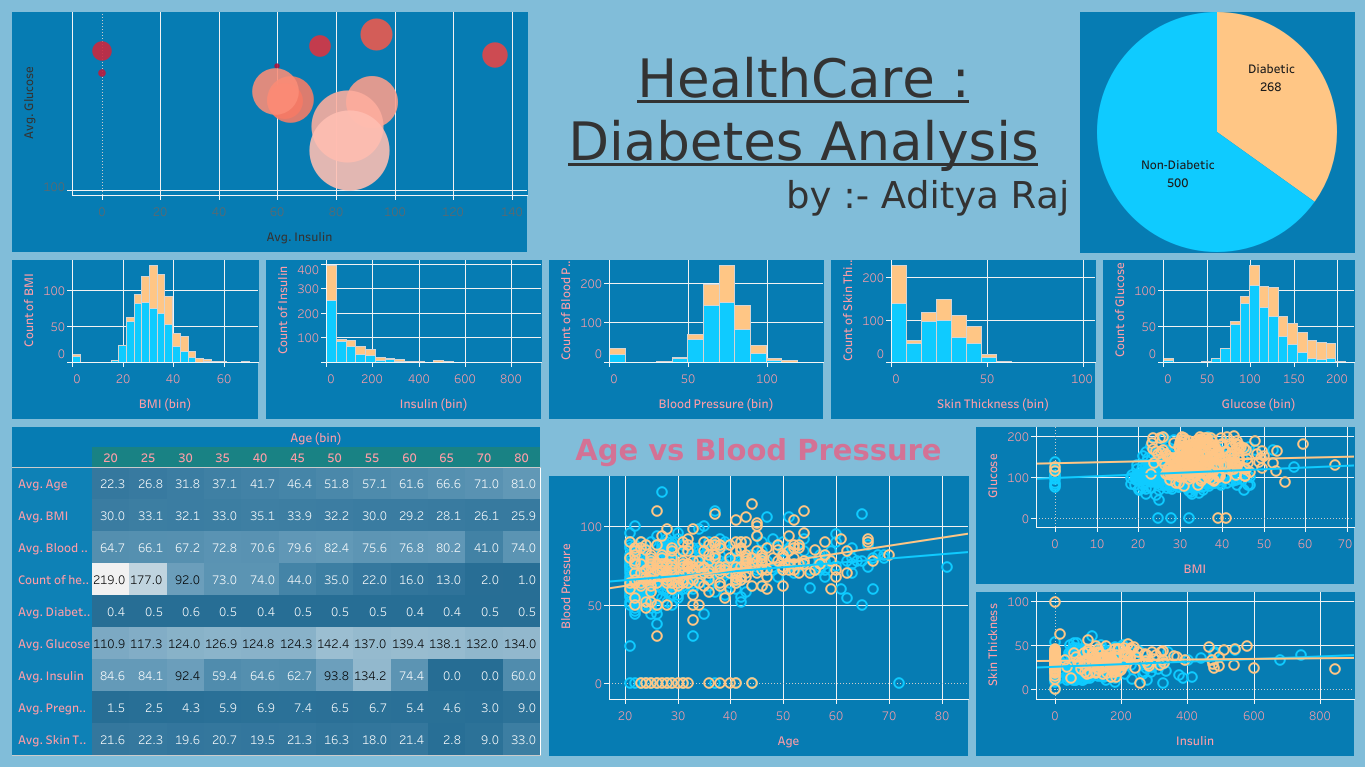

Layout of this report page (visuals, bound fields, positions):
{"tool":"tableau","page":{"name":"Dashboard","canvas":[1366,768],"ordinal":0},"visuals":[{"type":"worksheet","title":"Age Bins","mark":"Circle","rows":["Glucose"],"cols":["Insulin"],"box":[8,8,523.5,248]},{"type":"text","box":[531.5,8,544.5,248]},{"type":"worksheet","title":"Pie Outcome Percent","mark":"Pie","box":[1076,8,282,248]},{"type":"worksheet","title":"Hist BMI","mark":"Automatic","rows":["BMI"],"cols":["BMI (bin)"],"box":[8,256,254,167]},{"type":"worksheet","title":"Hist Insulin","mark":"Automatic","rows":["Insulin"],"cols":["Insulin (bin)"],"box":[262,256,283,167]},{"type":"worksheet","title":"Hist Blood Pressure","mark":"Automatic","rows":["BloodPressure"],"cols":["Blood Pressure (bin)"],"box":[545,256,282,167]},{"type":"worksheet","title":"Hist Skin Thickness","mark":"Automatic","rows":["SkinThickness"],"cols":["Skin Thickness (bin)"],"box":[827,256,272,167]},{"type":"worksheet","title":"Hist Glucose","mark":"Automatic","rows":["Glucose"],"cols":["Glucose (bin)"],"box":[1099,256,259,167]},{"type":"worksheet","title":"Heatmap","mark":"Square","cols":["Age (bin)"],"box":[8,423,537,337]},{"type":"worksheet","title":"Age vs Blood Pressure","mark":"Shape","rows":["BloodPressure"],"cols":["Age"],"box":[545,423,427,337]},{"type":"worksheet","title":"Bmi vs Glucose","mark":"Shape","rows":["Glucose"],"cols":["BMI"],"box":[972,423,386,165]},{"type":"worksheet","title":"Insulin Vs Skin Thickness","mark":"Shape","rows":["SkinThickness"],"cols":["Insulin"],"box":[972,588,386,172]}]}

Visuals, with their boxes in screenshot pixels (x1, y1, x2, y2), scaled from the page's 1366x768 canvas onto the 1365x767 screenshot:
"Age Bins" worksheet (Circle marks): <region>8, 8, 531, 256</region>
text: <region>531, 8, 1075, 256</region>
"Pie Outcome Percent" worksheet (Pie marks): <region>1075, 8, 1357, 256</region>
"Hist BMI" worksheet: <region>8, 256, 262, 422</region>
"Hist Insulin" worksheet: <region>262, 256, 545, 422</region>
"Hist Blood Pressure" worksheet: <region>545, 256, 826, 422</region>
"Hist Skin Thickness" worksheet: <region>826, 256, 1098, 422</region>
"Hist Glucose" worksheet: <region>1098, 256, 1357, 422</region>
"Heatmap" worksheet (Square marks): <region>8, 422, 545, 759</region>
"Age vs Blood Pressure" worksheet (Shape marks): <region>545, 422, 971, 759</region>
"Bmi vs Glucose" worksheet (Shape marks): <region>971, 422, 1357, 587</region>
"Insulin Vs Skin Thickness" worksheet (Shape marks): <region>971, 587, 1357, 759</region>
